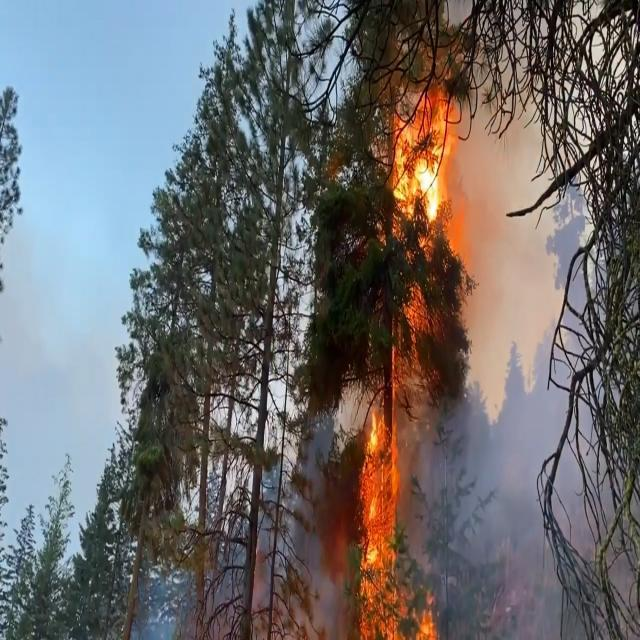Fire: (342, 88, 462, 640)
